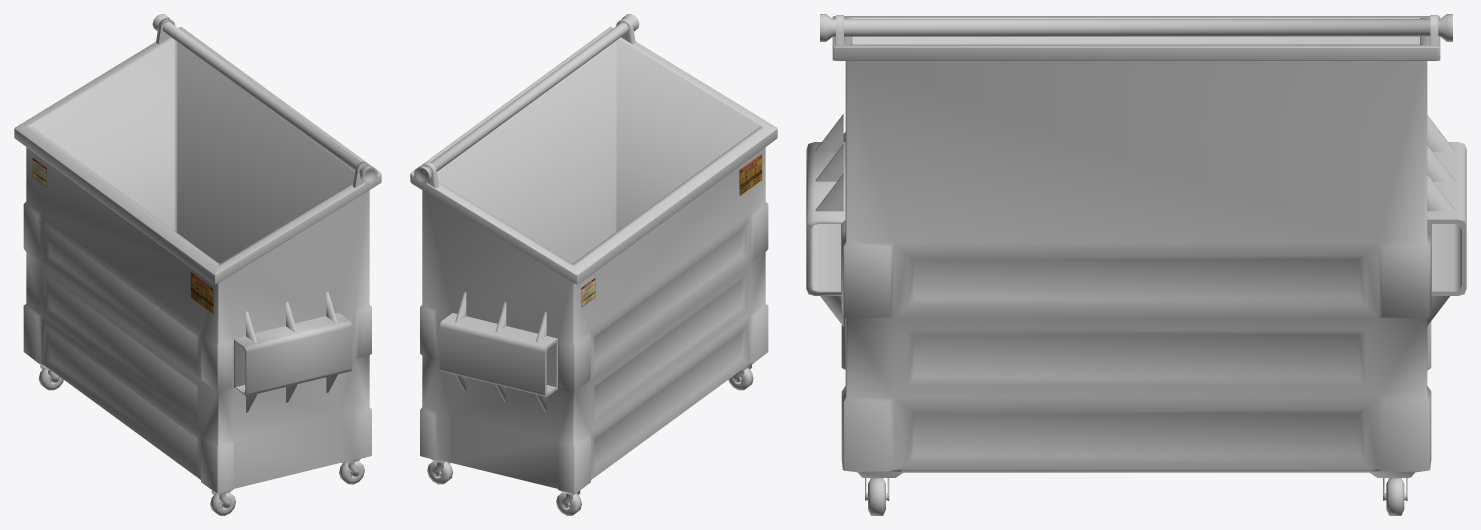
The model's file is Dumpster_A1.FBX.
3 views of the same model, side by side, from view 1: azimuth 30°, elevation 25°; view 2: azimuth 150°, elevation 25°; view 3: azimuth 270°, elevation 25° (orthographic). The views are drawn at different scales.
Parts seen in each view (by area): view 1: Dumpster_A; view 2: Dumpster_A; view 3: Dumpster_A.
Boxes of the visible parts, left/top/right/bottom form: Dumpster_A: left=14, top=14, right=381, bottom=515; Dumpster_A: left=410, top=14, right=777, bottom=515; Dumpster_A: left=806, top=14, right=1466, bottom=515.
Size of the model in its own units: 114 by 214 by 257.
